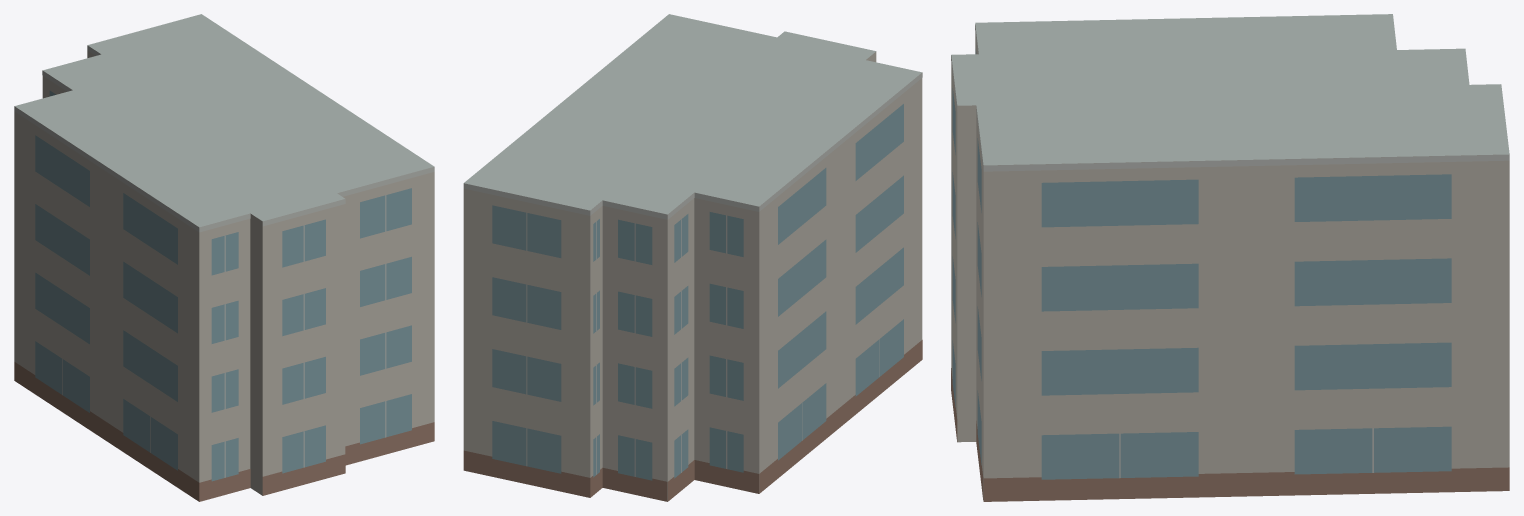
The model's file is survey-upis-32827379.glb.
3 renders of one model, left to right at view 1: azimuth 30°, elevation 25°; view 2: azimuth 150°, elevation 25°; view 3: azimuth 270°, elevation 25°, orthographic. The views are drawn at different scales.
Parts seen in each view (by area): view 1: survey-upis-32827379.tmp; view 2: survey-upis-32827379.tmp; view 3: survey-upis-32827379.tmp.
Boxes of the visible parts, x1,y1,x2,y2 form: survey-upis-32827379.tmp: (14,14,434,501); survey-upis-32827379.tmp: (463,14,922,501); survey-upis-32827379.tmp: (951,14,1509,501).
Size of the model in its own units: 12.65 by 13.1 by 19.71.
